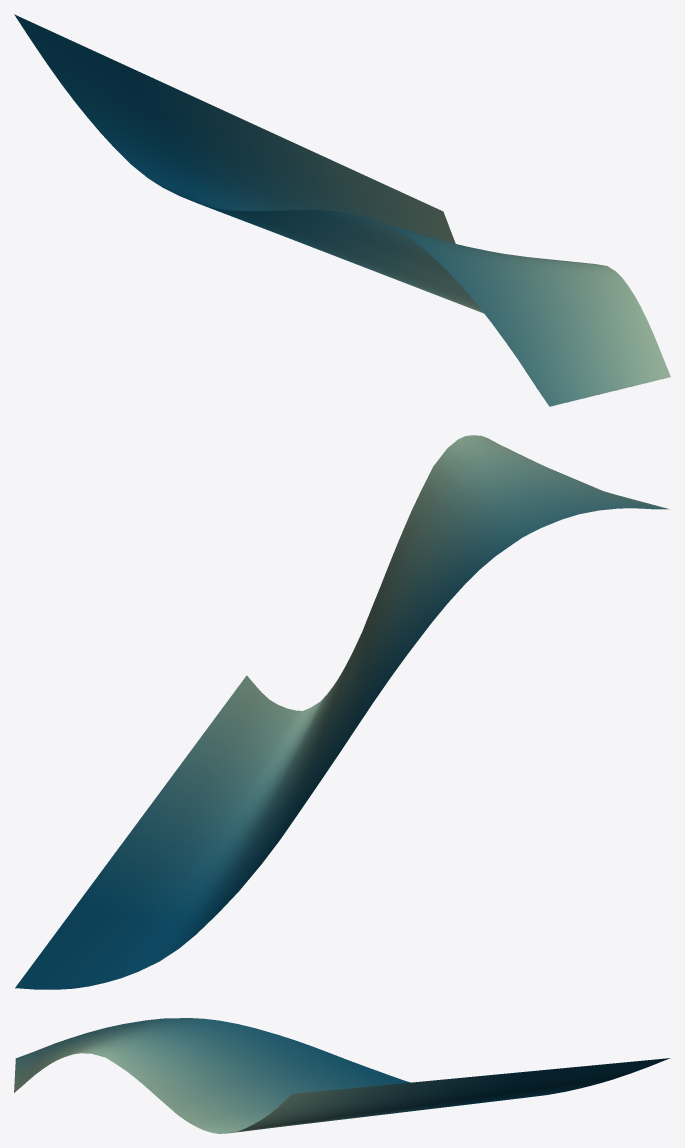
Rendered from recorrido.fbx.
3 renders of one model, top to bottom at view 1: azimuth 30°, elevation 25°; view 2: azimuth 150°, elevation 25°; view 3: azimuth 270°, elevation 25°, orthographic. The views are drawn at different scales.
Visible parts, largest first — view 1: y_snkx_k_menor_1_recorrido:Mesh; view 2: y_snkx_k_menor_1_recorrido:Mesh; view 3: y_snkx_k_menor_1_recorrido:Mesh.
Boxes of the visible parts, bbox=[...] form: y_snkx_k_menor_1_recorrido:Mesh: bbox=[14, 14, 670, 406]; y_snkx_k_menor_1_recorrido:Mesh: bbox=[15, 435, 669, 989]; y_snkx_k_menor_1_recorrido:Mesh: bbox=[14, 1018, 670, 1133].
Size of the model in its own units: 13.98 by 14.72 by 108.
